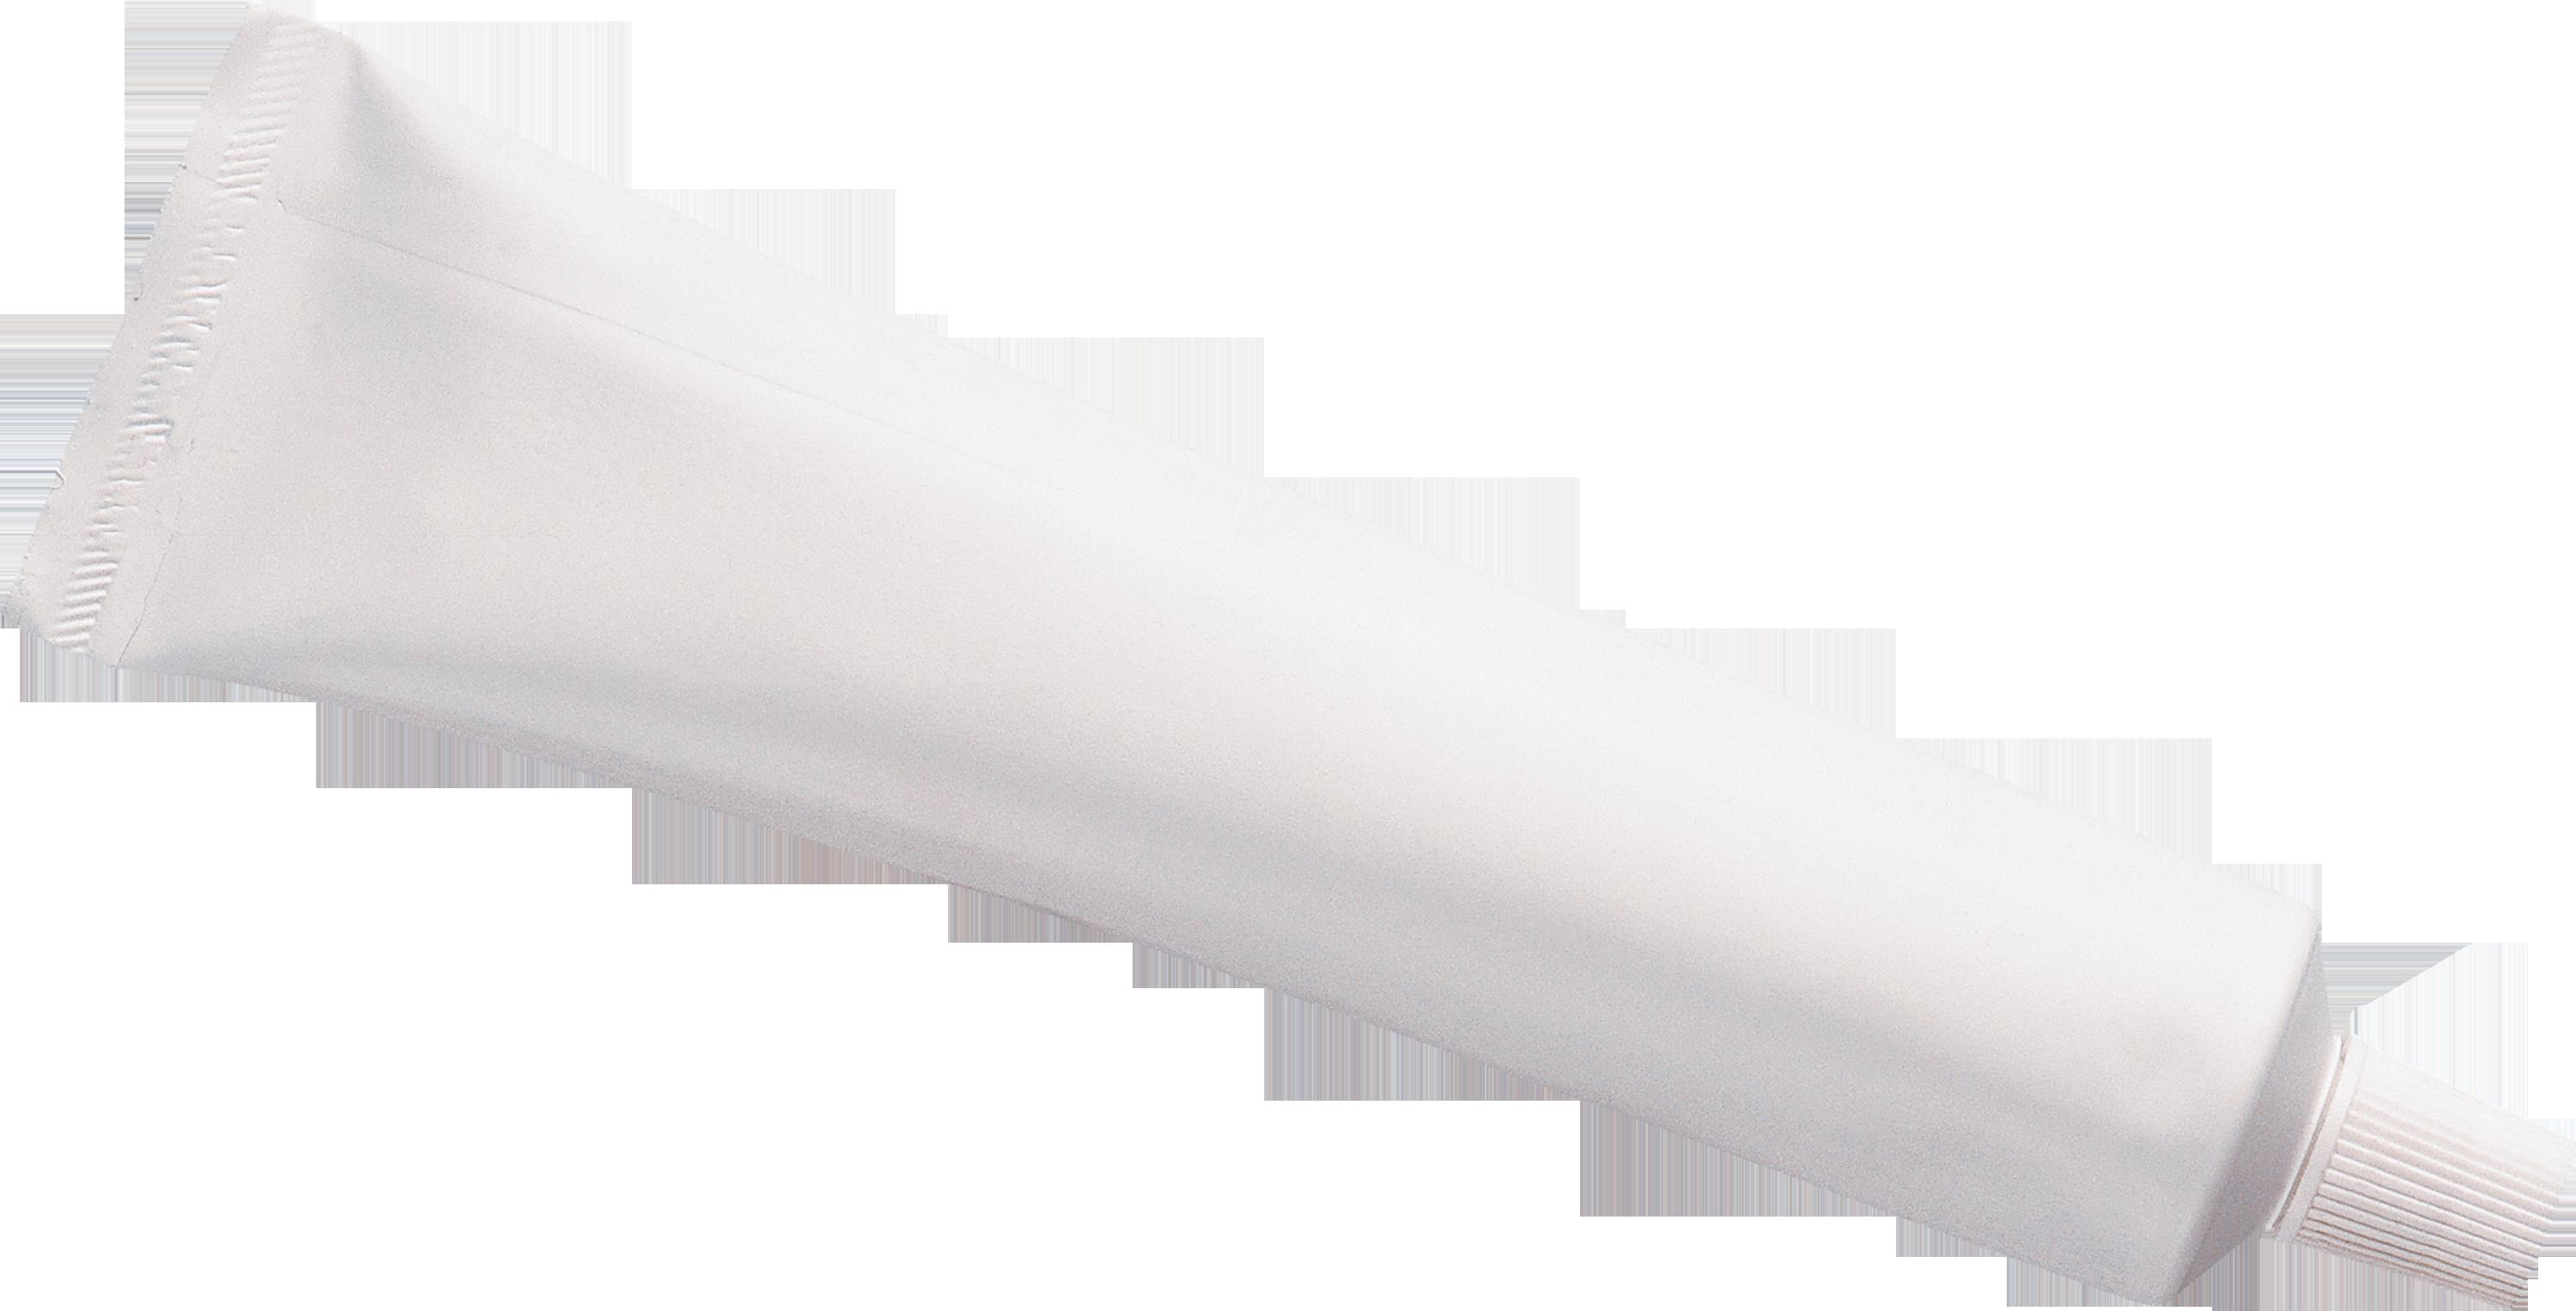toothpaste: (0, 3, 2576, 1311)
